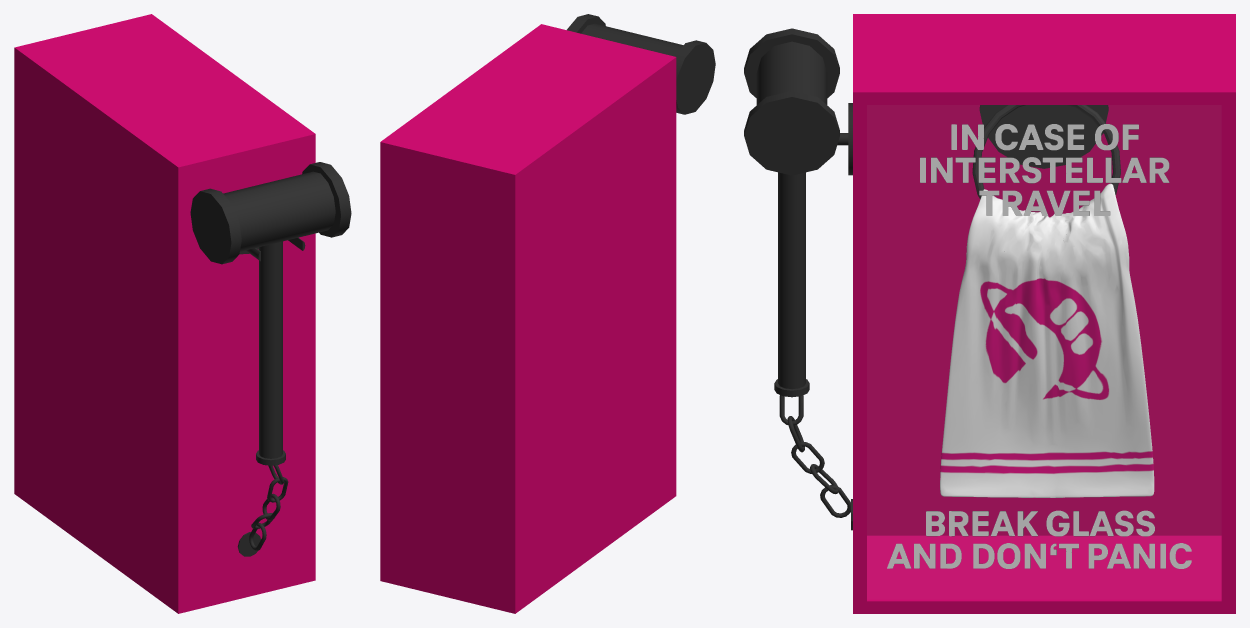
The model's file is EmergencyTowel.gltf.
The picture shows the model from 3 angles, left to right: view 1: azimuth 30°, elevation 25°; view 2: azimuth 150°, elevation 25°; view 3: azimuth 270°, elevation 25°; orthographic projection. The views are drawn at different scales.
Parts seen in each view (by area): view 1: Box, Hammer, Chain; view 2: Box, Hammer; view 3: Box, Towel, Hammer, TowelHolder, Chain.
Part boxes in pixels (box(x1,y1,x2,y2)): Box: box(14, 14, 315, 613); Hammer: box(190, 162, 351, 465); Chain: box(237, 465, 288, 556); Box: box(380, 24, 676, 613); Hammer: box(567, 14, 715, 114); Box: box(837, 14, 1235, 613); Towel: box(940, 183, 1154, 497); Hammer: box(744, 28, 839, 397); TowelHolder: box(972, 105, 1120, 199); Chain: box(779, 395, 852, 530).
Bounding box in the file's own units: 0.2283 × 0.7093 × 0.6059.
4 materials, 1 textured.
